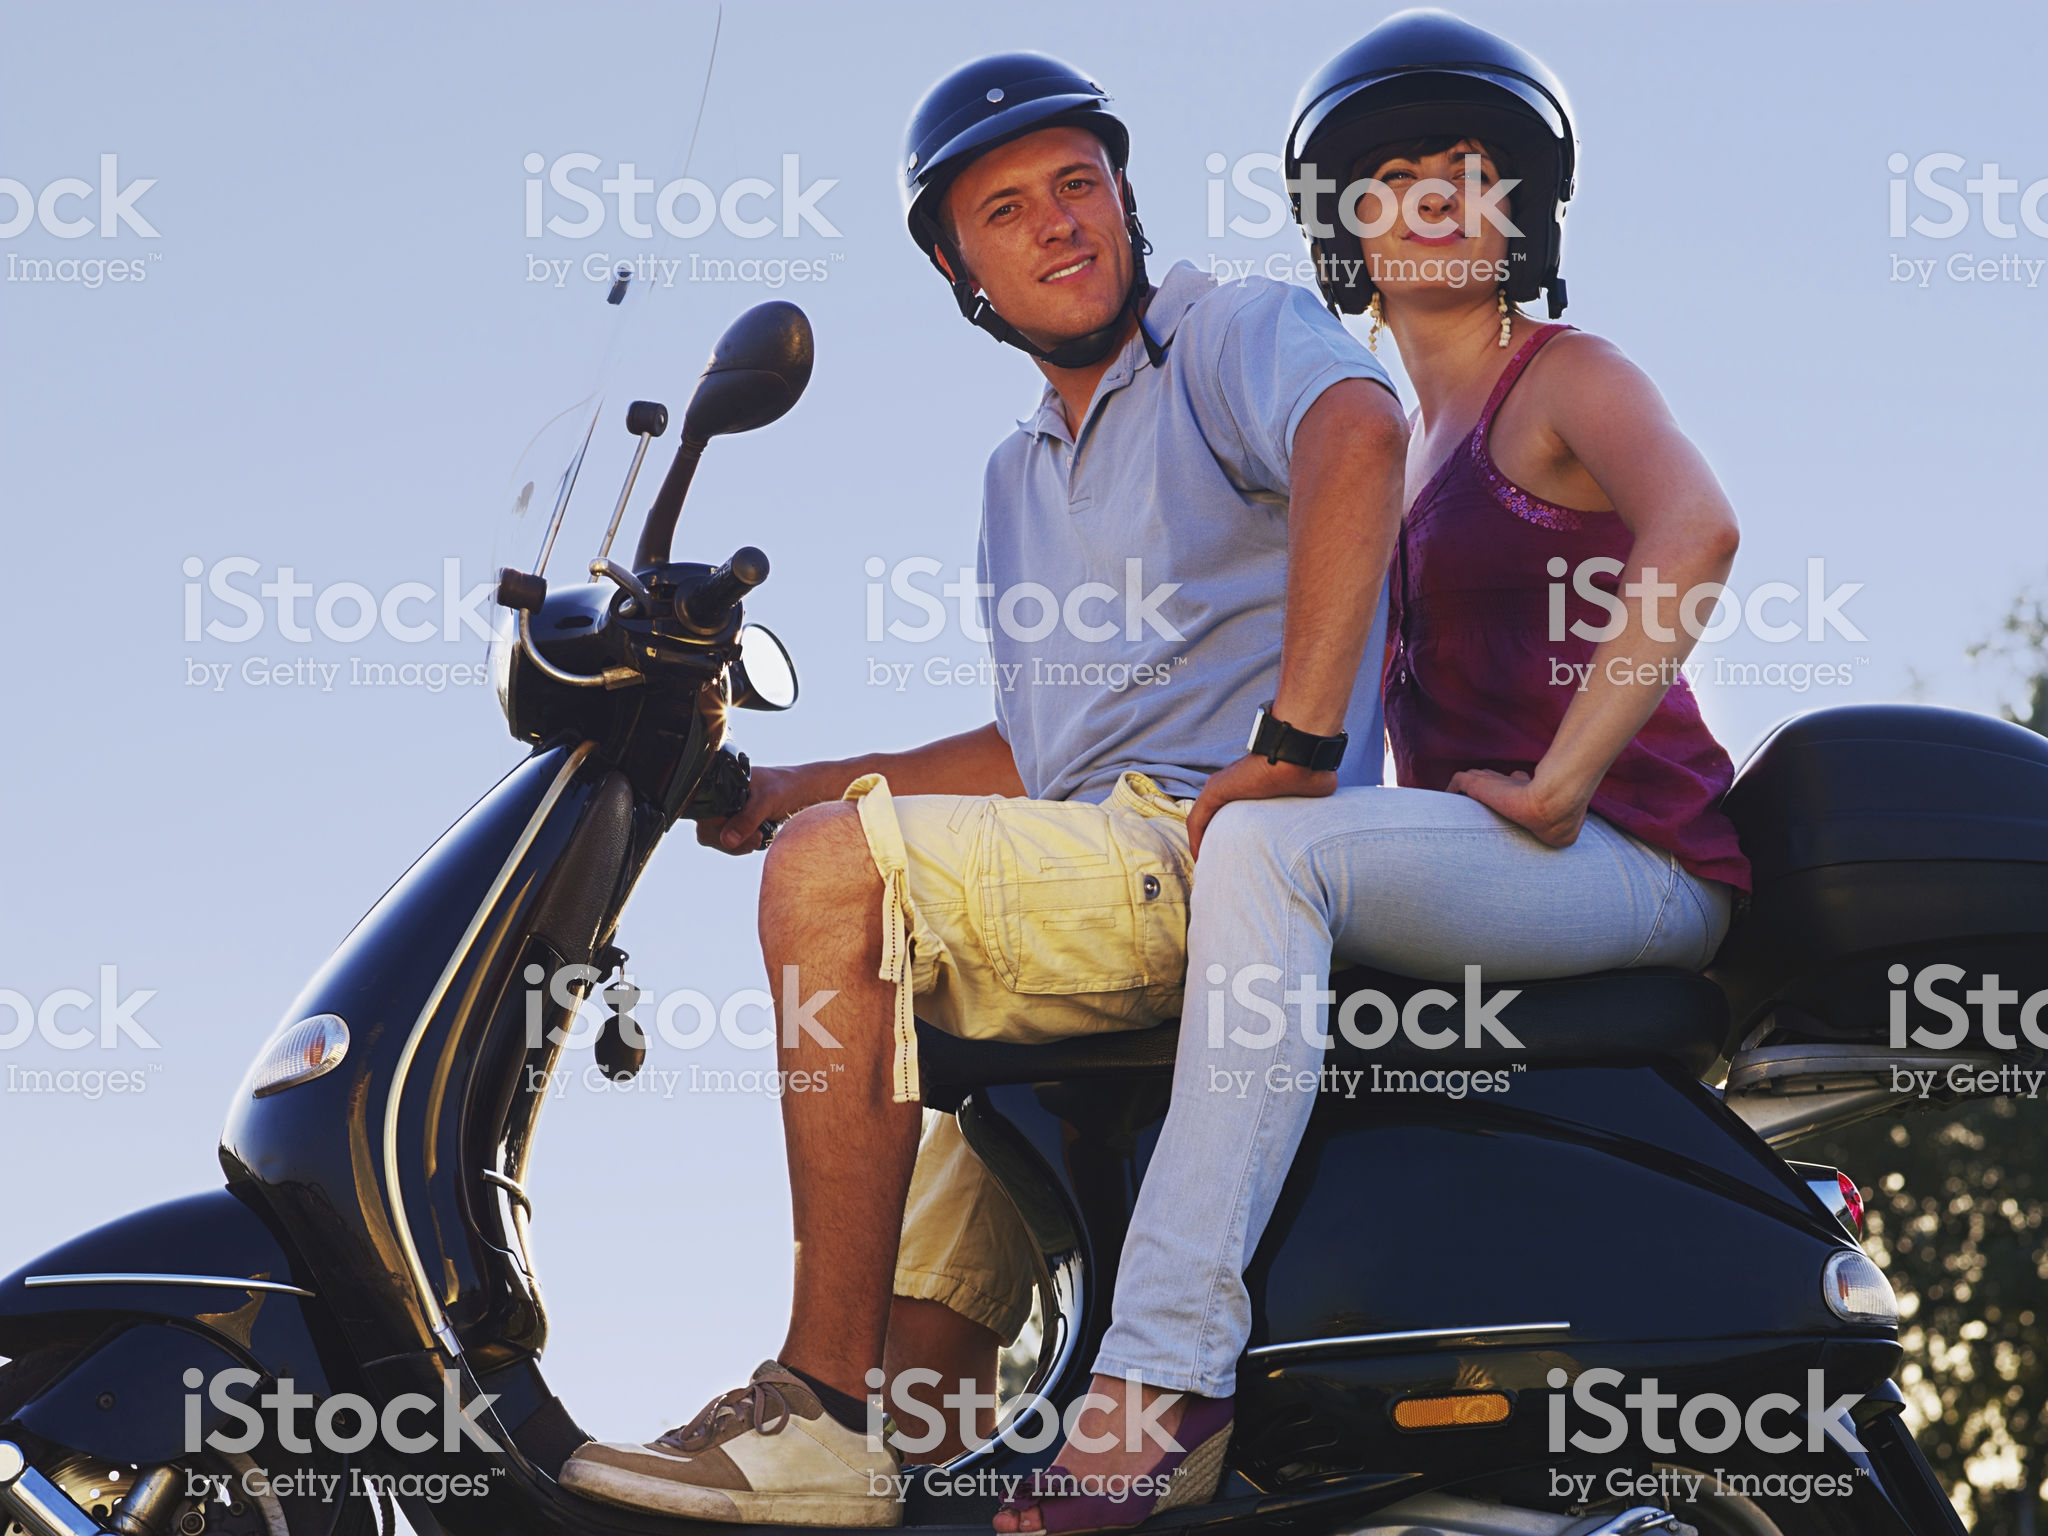helmet: (1269, 16, 1655, 174), (895, 61, 1151, 173)
